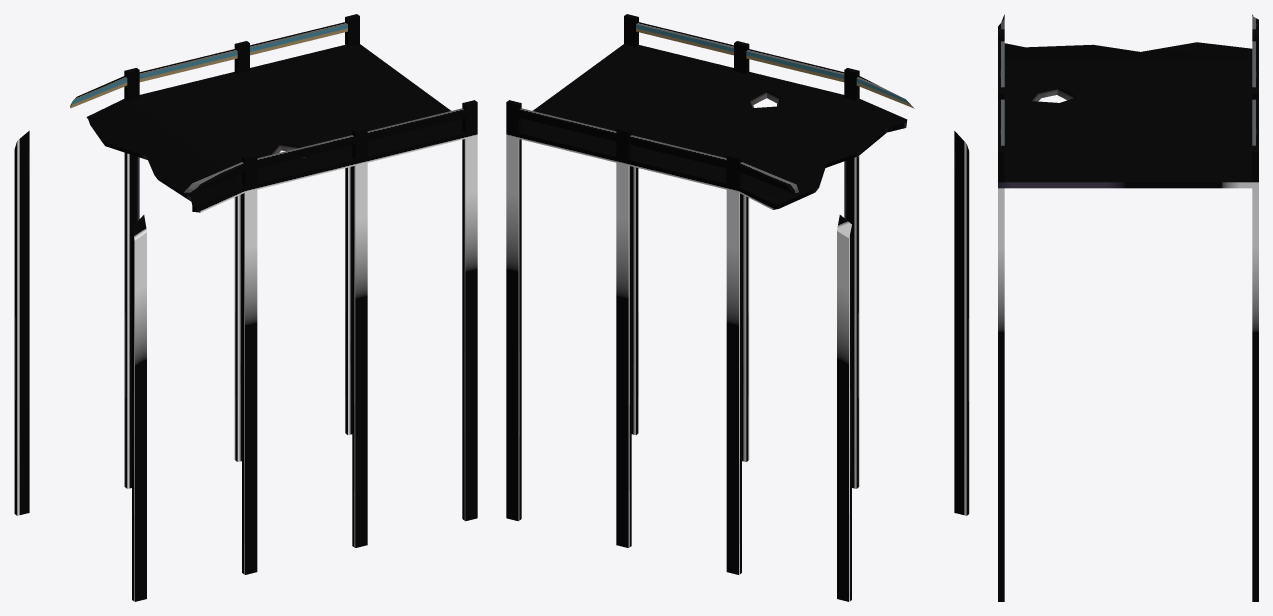
Rendered from BrokenBridge.fbx.
The picture shows the model from 3 angles, left to right: view 1: azimuth 30°, elevation 25°; view 2: azimuth 150°, elevation 25°; view 3: azimuth 270°, elevation 25°; orthographic projection. The views are drawn at different scales.
Visible parts, largest first — view 1: BrokenBridge; view 2: BrokenBridge; view 3: BrokenBridge.
Boxes of the visible parts, x1,y1,x2,y2 form: BrokenBridge: [14, 14, 477, 601]; BrokenBridge: [506, 14, 969, 601]; BrokenBridge: [998, 14, 1258, 601].
Size of the model in its own units: 379 by 439 by 231.
